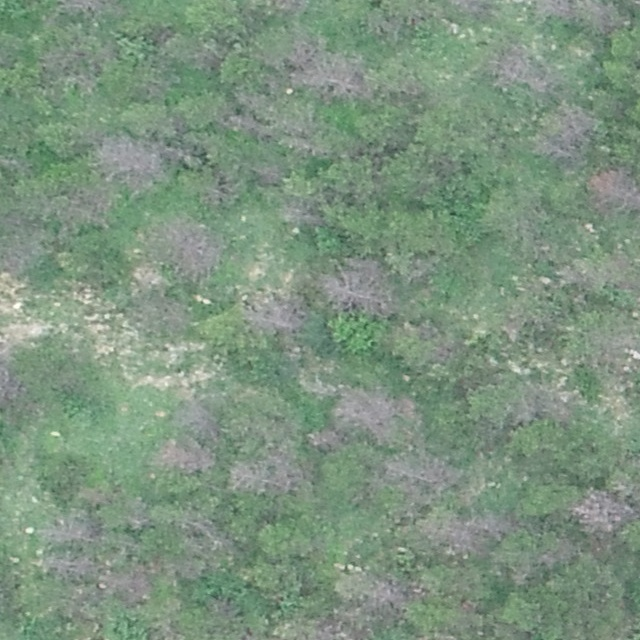unhealthy: (287, 38, 373, 101), (333, 383, 415, 445), (149, 216, 223, 280), (320, 257, 396, 318), (254, 100, 333, 156), (95, 133, 165, 191), (378, 453, 458, 502), (533, 103, 594, 164), (230, 448, 306, 496), (487, 44, 556, 95), (558, 251, 637, 293), (421, 512, 491, 559), (174, 507, 233, 561), (511, 379, 580, 425), (349, 572, 415, 620), (242, 287, 306, 336), (397, 322, 463, 369), (572, 486, 635, 533), (586, 167, 638, 215), (62, 183, 114, 228), (587, 326, 640, 370), (154, 437, 217, 474), (39, 510, 101, 545), (102, 564, 154, 604), (174, 397, 221, 438), (0, 229, 40, 275), (141, 297, 190, 334), (309, 611, 370, 640), (577, 0, 627, 34), (41, 551, 95, 580), (222, 110, 272, 141), (185, 37, 226, 74), (278, 196, 325, 228), (467, 509, 513, 539), (539, 537, 576, 567), (306, 427, 345, 453), (56, 1, 112, 17), (124, 498, 152, 529), (0, 362, 20, 405), (447, 0, 493, 18), (534, 0, 574, 20), (253, 162, 286, 185), (149, 619, 185, 640)
